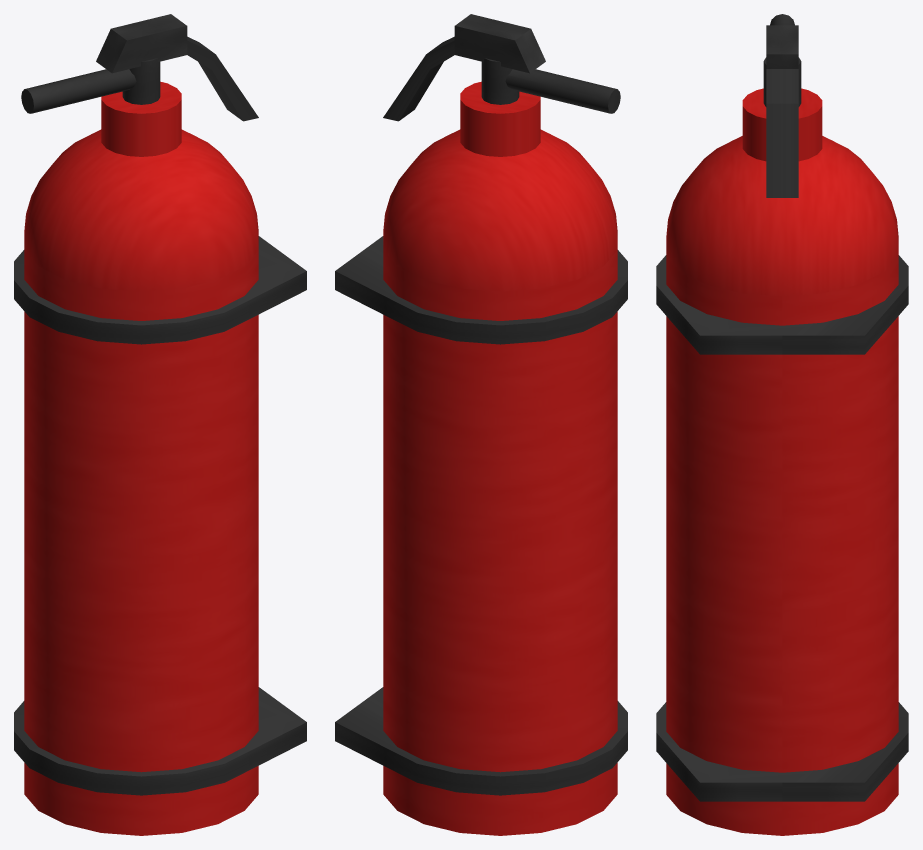
The model's file is Extinguisher.FBX.
The picture shows the model from 3 angles, left to right: view 1: azimuth 30°, elevation 25°; view 2: azimuth 150°, elevation 25°; view 3: azimuth 270°, elevation 25°; orthographic projection.
Parts seen in each view (by area): view 1: Capsule001, Capsule002, Capsule003, Box001, Cylinder002, Cylinder001; view 2: Capsule001, Capsule002, Capsule003, Box001, Cylinder002, Cylinder001; view 3: Capsule001, Capsule002, Capsule003, Box001.
Part boxes in pixels (x1,y1,x2,y2): Capsule001: (24, 81, 258, 835); Capsule002: (14, 236, 306, 344); Capsule003: (14, 687, 306, 795); Box001: (96, 14, 258, 121); Cylinder002: (21, 69, 136, 113); Cylinder001: (122, 58, 160, 104); Capsule001: (383, 81, 617, 835); Capsule002: (335, 236, 627, 344); Capsule003: (335, 687, 627, 795); Box001: (383, 14, 545, 121); Cylinder002: (505, 69, 620, 113); Cylinder001: (481, 58, 519, 104); Capsule001: (666, 88, 898, 835); Capsule002: (656, 255, 908, 354); Capsule003: (656, 702, 908, 801); Box001: (766, 25, 798, 197).
Bounding box in the file's own units: 0.0576 × 0.1752 × 0.0535.
Materials: 1 (1 with a texture image).
